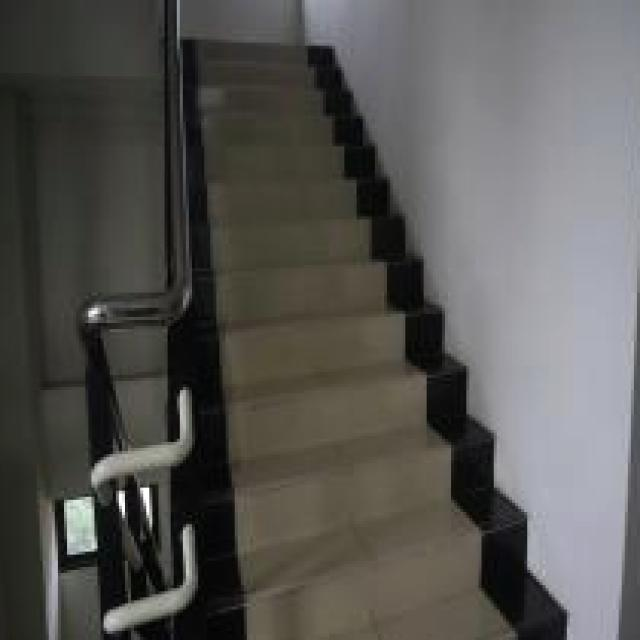upstair: (175, 56, 513, 640)
